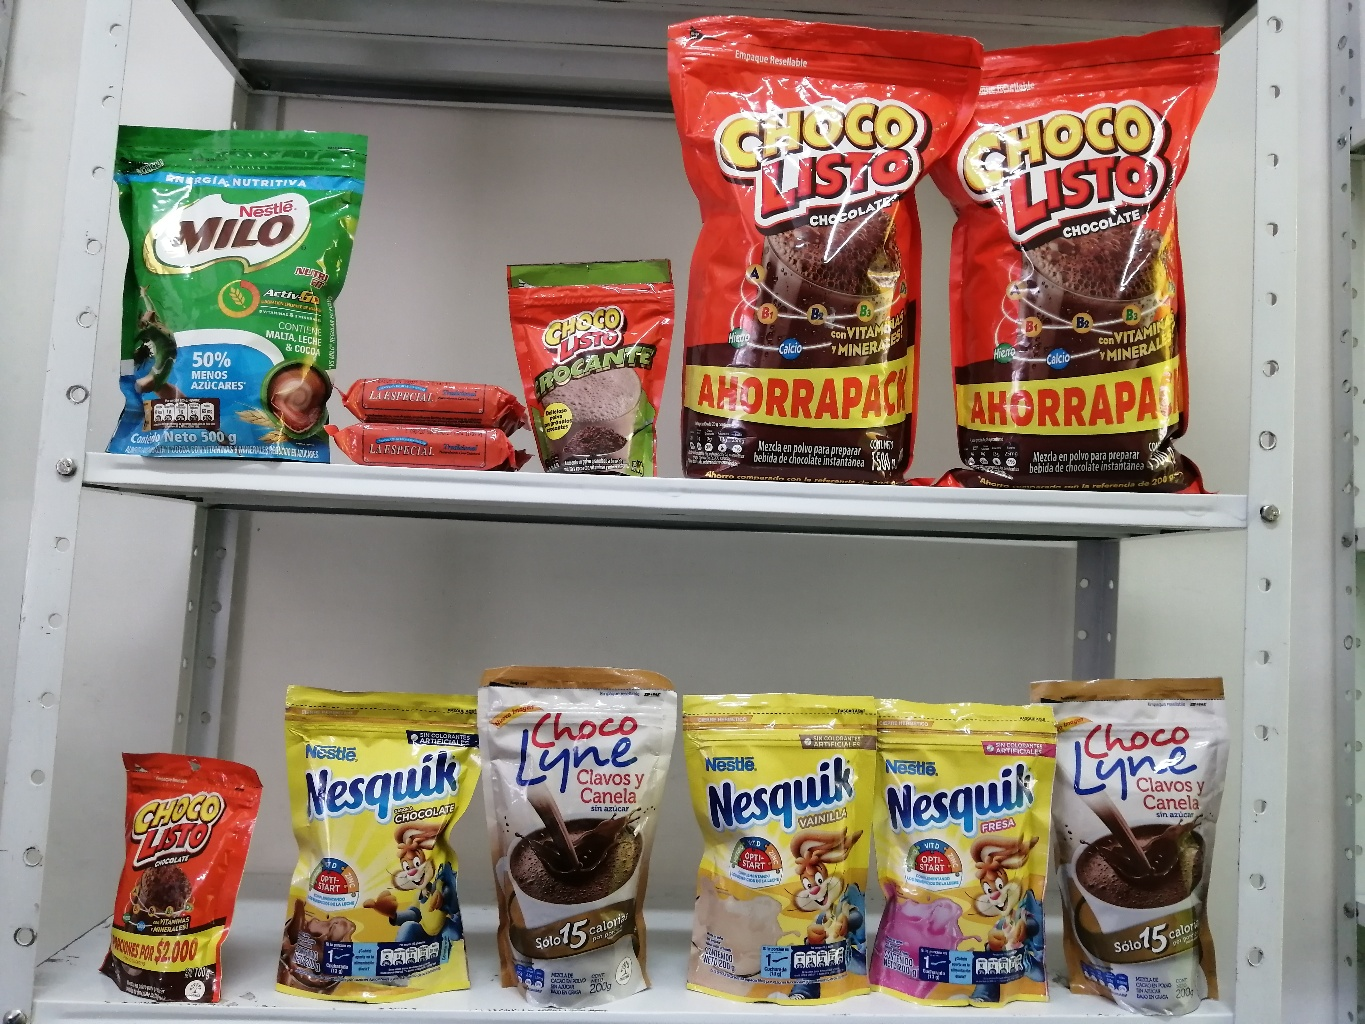COL0170102DYP10000: (507, 262, 674, 474)
COL0170103DYP1,500: (666, 19, 983, 484)
COL0170205DYP50000: (115, 118, 367, 463)
COL0170303DYP20000: (286, 684, 480, 1005)
COL0170305DYP20000: (873, 695, 1060, 1010)
COL0170306DYP20000: (682, 694, 883, 1006)
